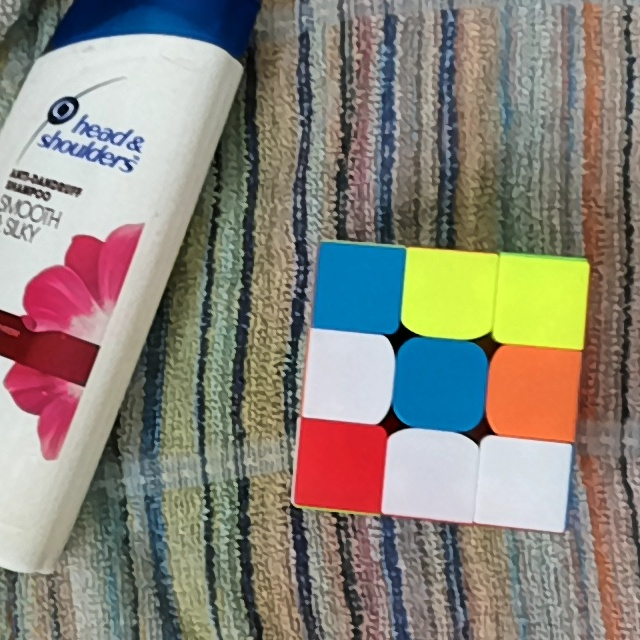tile: (504, 263, 580, 341), (490, 444, 563, 519), (409, 259, 486, 329), (496, 357, 569, 430), (393, 441, 470, 510), (315, 339, 385, 413), (406, 349, 476, 422), (305, 430, 375, 500), (326, 253, 395, 321)
